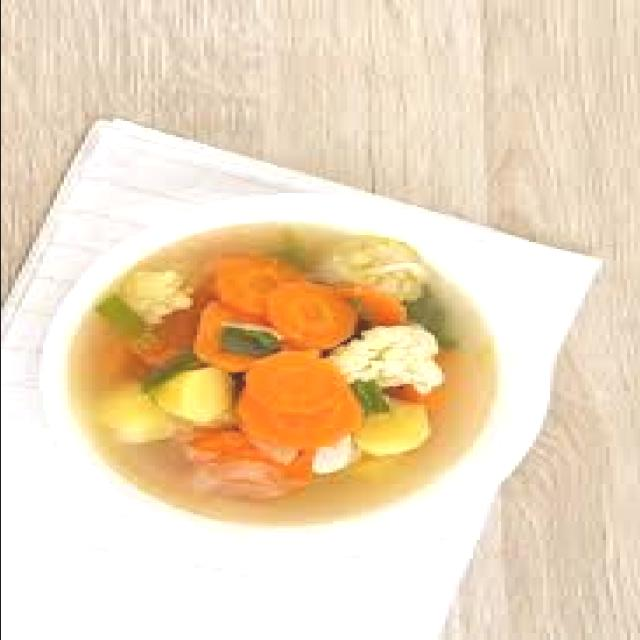sop: (59, 226, 500, 528)
